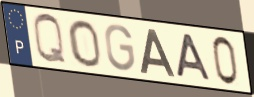0: (211, 35, 240, 86)
A: (139, 27, 178, 79), (174, 32, 213, 82)
G: (103, 22, 137, 73)
O: (66, 18, 103, 69)
Q: (31, 11, 69, 67)
